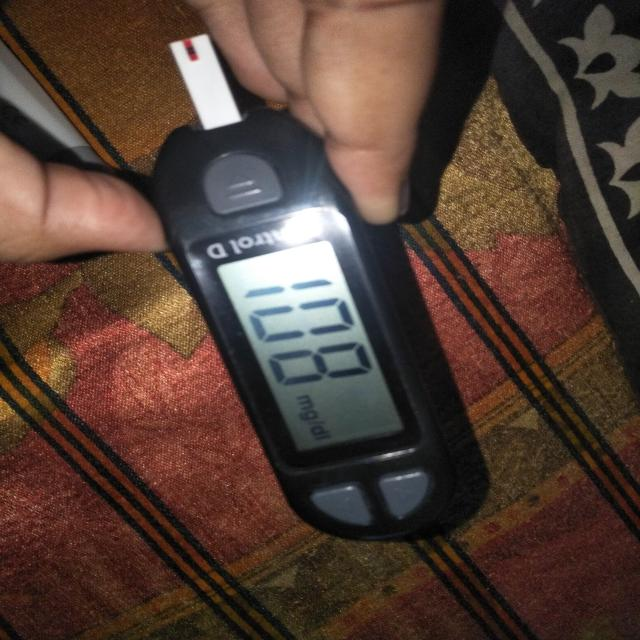display: (215, 239, 408, 453)
frame: (242, 269, 381, 390)
gauge: (146, 33, 489, 544)
